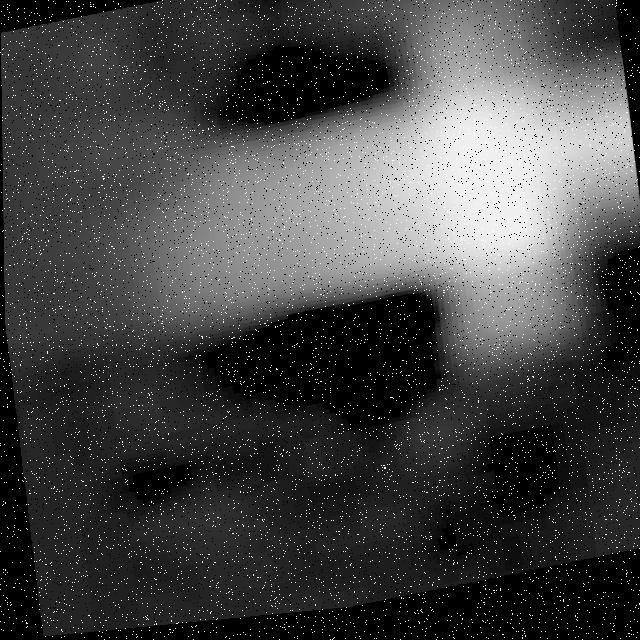person: (173, 1, 640, 397)
